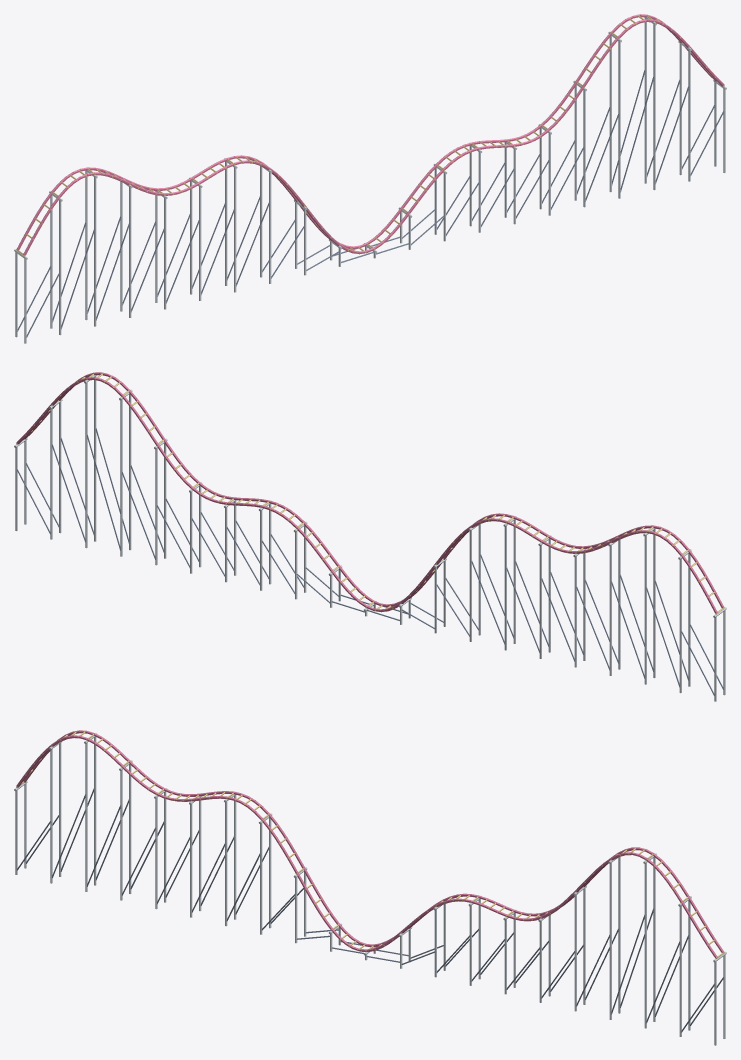
File: montana_rusa_vias.glb
3 renders of one model, top to bottom at view 1: azimuth 30°, elevation 25°; view 2: azimuth 150°, elevation 25°; view 3: azimuth 330°, elevation 25°, orthographic.
Parts seen in each view (by area): view 1: montana_rusa_vias; view 2: montana_rusa_vias; view 3: montana_rusa_vias.
Boxes of the visible parts, box(x1,y1,x2,y2) form: montana_rusa_vias: box(14, 14, 726, 343); montana_rusa_vias: box(14, 372, 726, 701); montana_rusa_vias: box(14, 730, 726, 1045).
Bounding box in the file's own units: 42.14 × 9.85 × 1.2.
